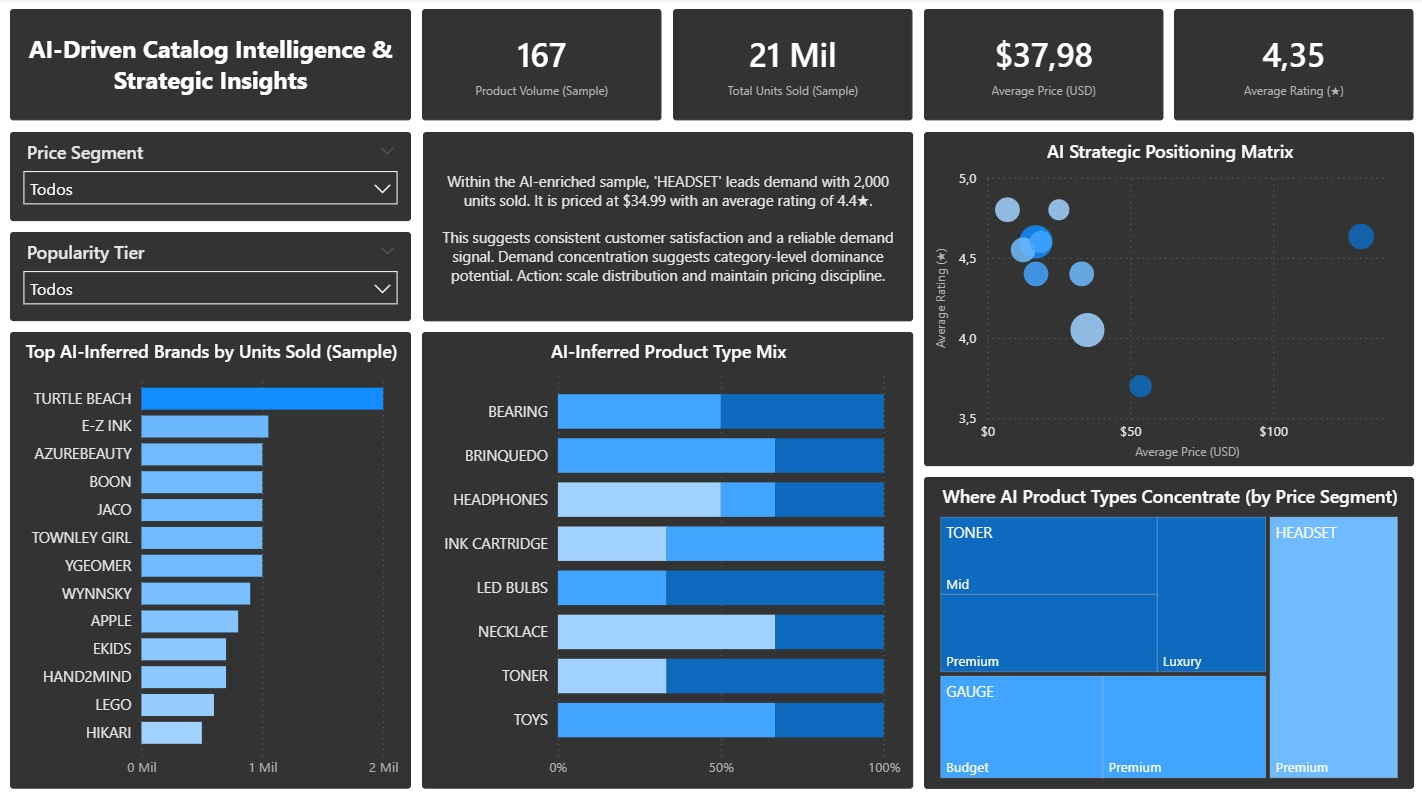

Layout of this report page (visuals, bound fields, positions):
{"tool":"powerbi","page":{"name":"AI Strategic Insights","canvas":[1280,720],"ordinal":2},"visuals":[{"type":"hundredPercentStackedBarChart","title":"AI-Inferred Product Type Mix","fields":{"Category":["dash_ai_segment_analysis.llm_product_type"],"Y":["Medidas.AI Product Volume"],"Series":["dim_tier.popularity_tier"]},"box":[379.3,299.6,440.6,410.5],"z":0},{"type":"cardVisual","fields":{"Data":["Medidas.AI Product Volume"]},"box":[380,10,215,100],"z":1000},{"type":"cardVisual","fields":{"Data":["Medidas.AI Average Price"]},"box":[830,10,215,100],"z":2000},{"type":"cardVisual","fields":{"Data":["Medidas.AI Average Rating"]},"box":[1055,10,215,100],"z":3000},{"type":"textbox","box":[10,10,360,100],"z":4000},{"type":"clusteredBarChart","title":"Top AI-Inferred Brands by Units Sold (Sample)","fields":{"Category":["dash_ai_segment_analysis.llm_brand_guess"],"Y":["Medidas.AI Total Units"]},"box":[10,300,360,410],"z":5000},{"type":"treemap","title":"Where AI Product Types Concentrate (by Price Segment)","fields":{"Group":["dash_ai_segment_analysis.llm_product_type"],"Values":["Medidas.AI Product Volume"],"Details":["dim_segment.price_segment"]},"box":[830,430,440,280],"z":6000},{"type":"cardVisual","fields":{"Data":["Medidas.AI Total Units"]},"box":[604.9,10,215,100],"z":7000},{"type":"slicer","fields":{"Values":["dim_segment.price_segment"]},"box":[10,120,360,80],"z":8000},{"type":"slicer","fields":{"Values":["dim_tier.popularity_tier"]},"box":[10,210,360,80],"z":9000},{"type":"scatterChart","title":"AI Strategic Positioning Matrix","fields":{"Series":["dash_ai_segment_analysis.llm_product_type"],"X":["Medidas.AI Average Price"],"Y":["Medidas.AI Average Rating"],"Size":["Medidas.AI Total Units"]},"box":[830.4,120,440,300],"z":10000},{"type":"cardVisual","fields":{"Data":["Medidas.AI Strategic Insight (Text)"]},"box":[380.6,120.3,440,170],"z":11000}]}

Visuals, with their boxes in screenshot pixels (x1, y1, x2, y2), scaled from the page's 1280x720 canvas onto the 1422x799 screenshot:
"AI-Inferred Product Type Mix" hundredPercentStackedBarChart: [421, 332, 911, 788]
cardVisual - Medidas.AI Product Volume: [422, 11, 661, 122]
cardVisual - Medidas.AI Average Price: [922, 11, 1161, 122]
cardVisual - Medidas.AI Average Rating: [1172, 11, 1411, 122]
textbox: [11, 11, 411, 122]
"Top AI-Inferred Brands by Units Sold (Sample)" clusteredBarChart: [11, 333, 411, 788]
"Where AI Product Types Concentrate (by Price Segment)" treemap: [922, 477, 1411, 788]
cardVisual - Medidas.AI Total Units: [672, 11, 911, 122]
slicer - dim_segment.price_segment: [11, 133, 411, 222]
slicer - dim_tier.popularity_tier: [11, 233, 411, 322]
"AI Strategic Positioning Matrix" scatterChart: [923, 133, 1411, 466]
cardVisual - Medidas.AI Strategic Insight (Text): [423, 133, 912, 322]
